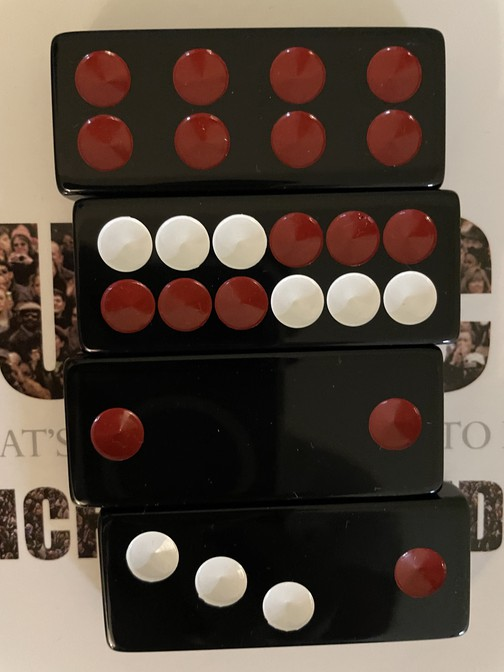earth: (63, 356, 454, 500)
goose: (97, 508, 472, 652)
heaven: (72, 194, 462, 346)
man: (53, 29, 444, 194)
